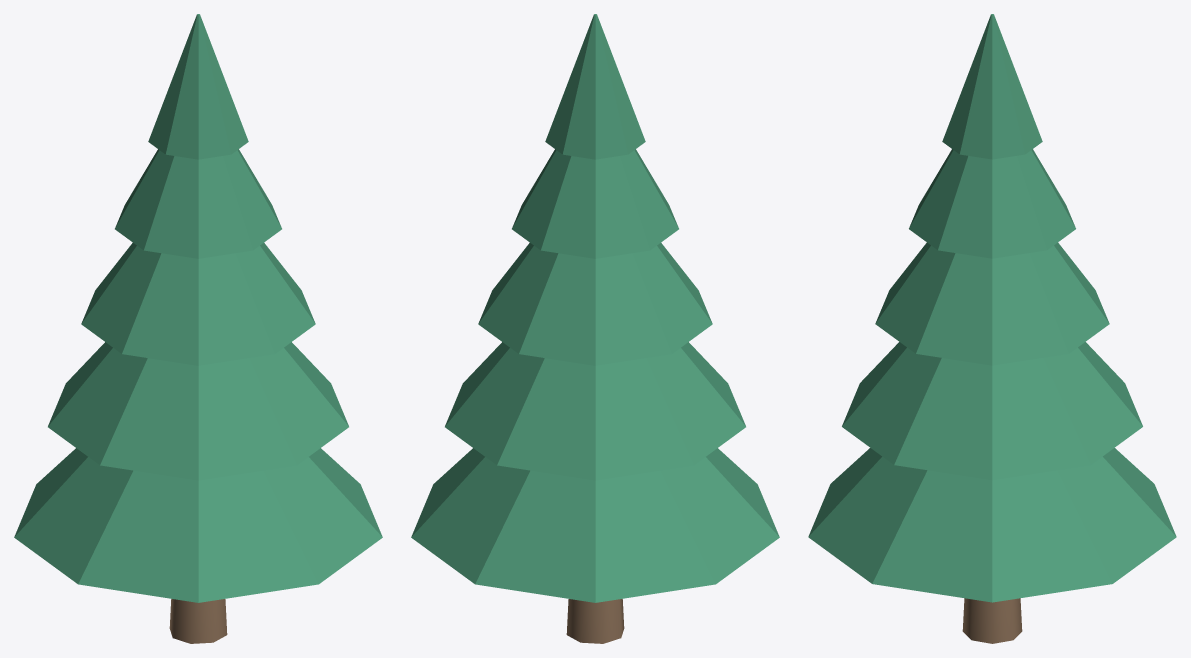
Rendered from tree_conifer.glb.
3 views of the same model, side by side, from view 1: azimuth 30°, elevation 25°; view 2: azimuth 150°, elevation 25°; view 3: azimuth 270°, elevation 25° (orthographic).
Visible parts, largest first — view 1: tree_conifer_m; view 2: tree_conifer_m; view 3: tree_conifer_m.
Boxes of the visible parts, bbox=[...] form: tree_conifer_m: bbox=[14, 14, 382, 643]; tree_conifer_m: bbox=[411, 14, 779, 643]; tree_conifer_m: bbox=[808, 14, 1176, 643].
Size of the model in its own units: 4.27 by 8 by 4.33.
